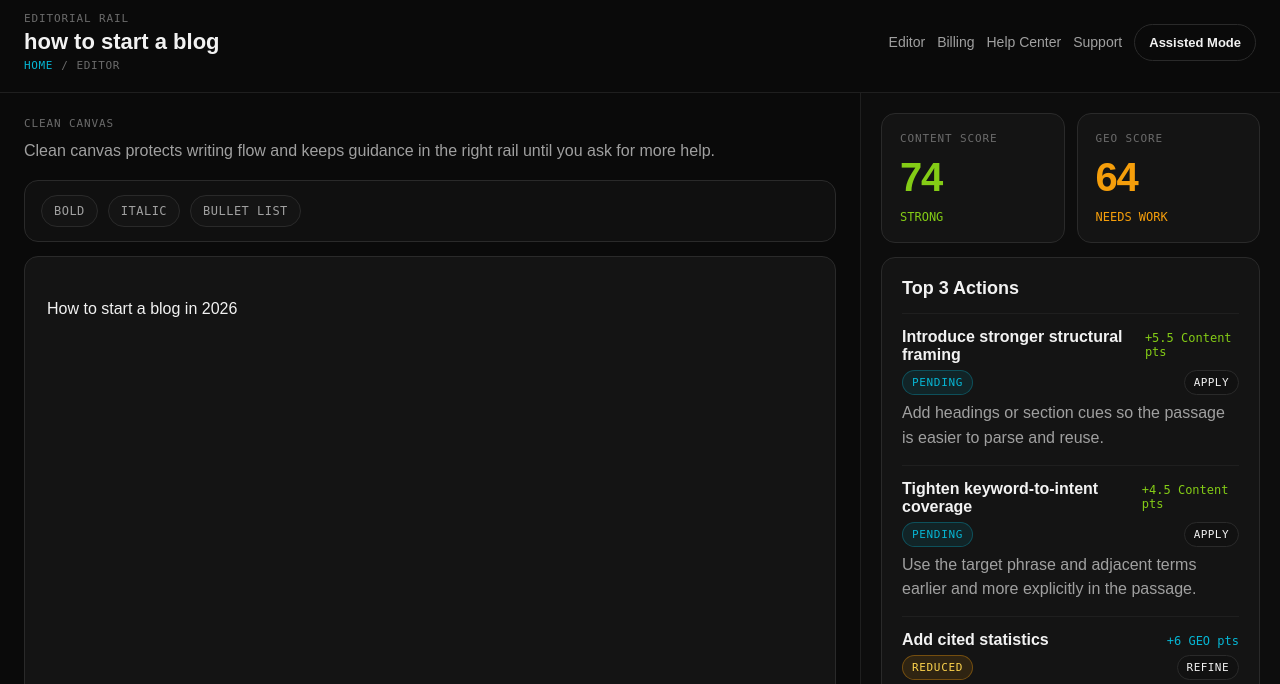
it: EditorRail › applies inline guidance actions into the draft when clicked
What coordinates should you click on to do the following:
click the button "Assisted Mode"
I would click on:
 (1195, 42)
Its box is [1134, 24, 1256, 60].
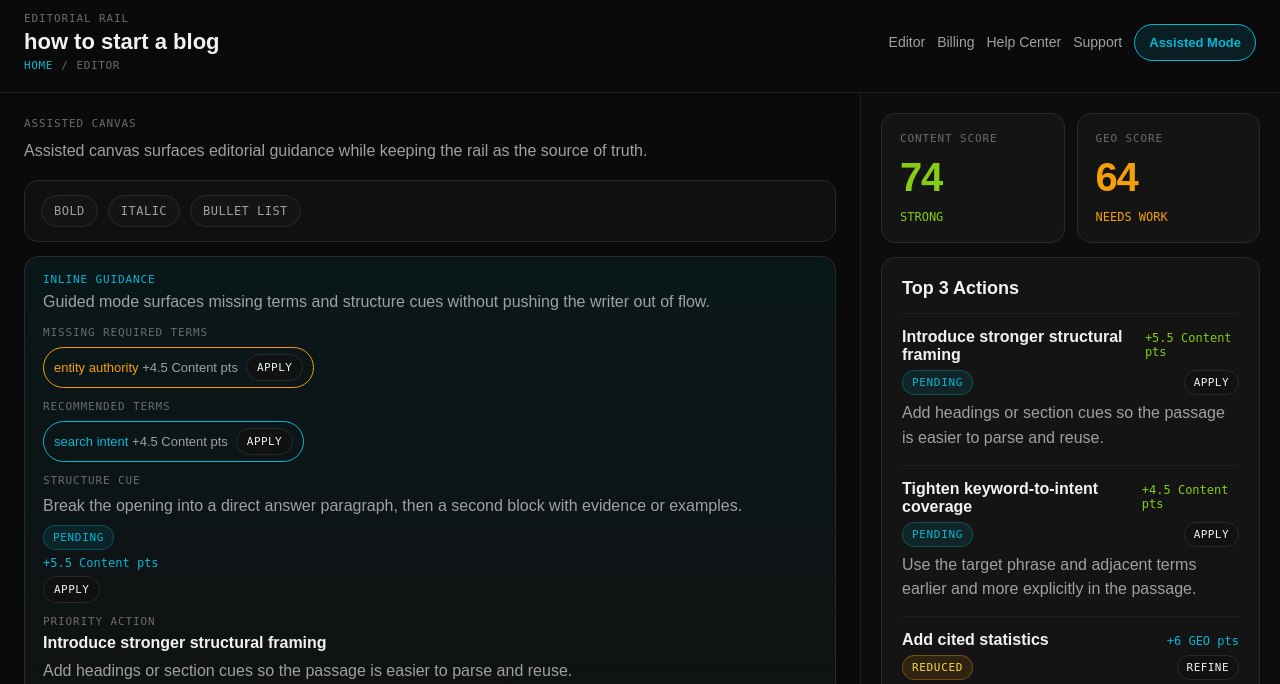
What coordinates should you click on to do the following:
click the button with aria-label "apply term entity authority"
I would click on:
 (275, 368)
Its box is [246, 354, 303, 381].
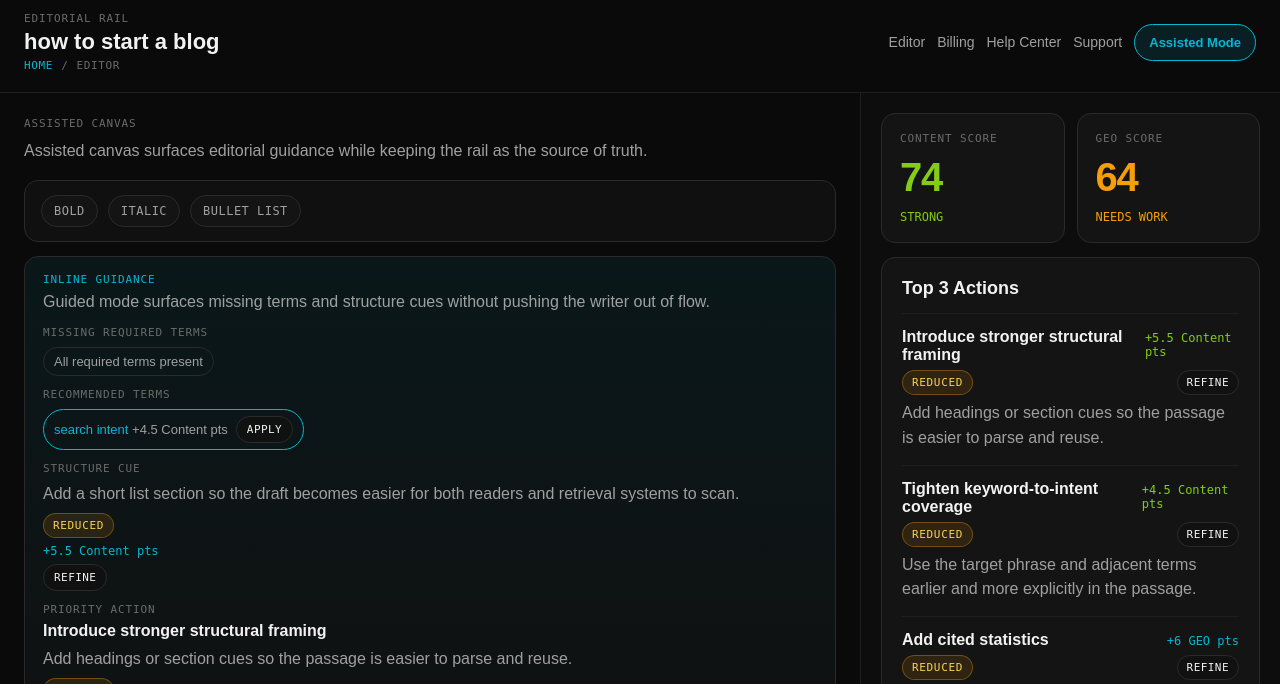
What coordinates should you click on to do the following:
click the button with aria-label "apply structure cue"
I would click on:
 (75, 578)
Its box is [43, 564, 107, 591].
(page scrolled)
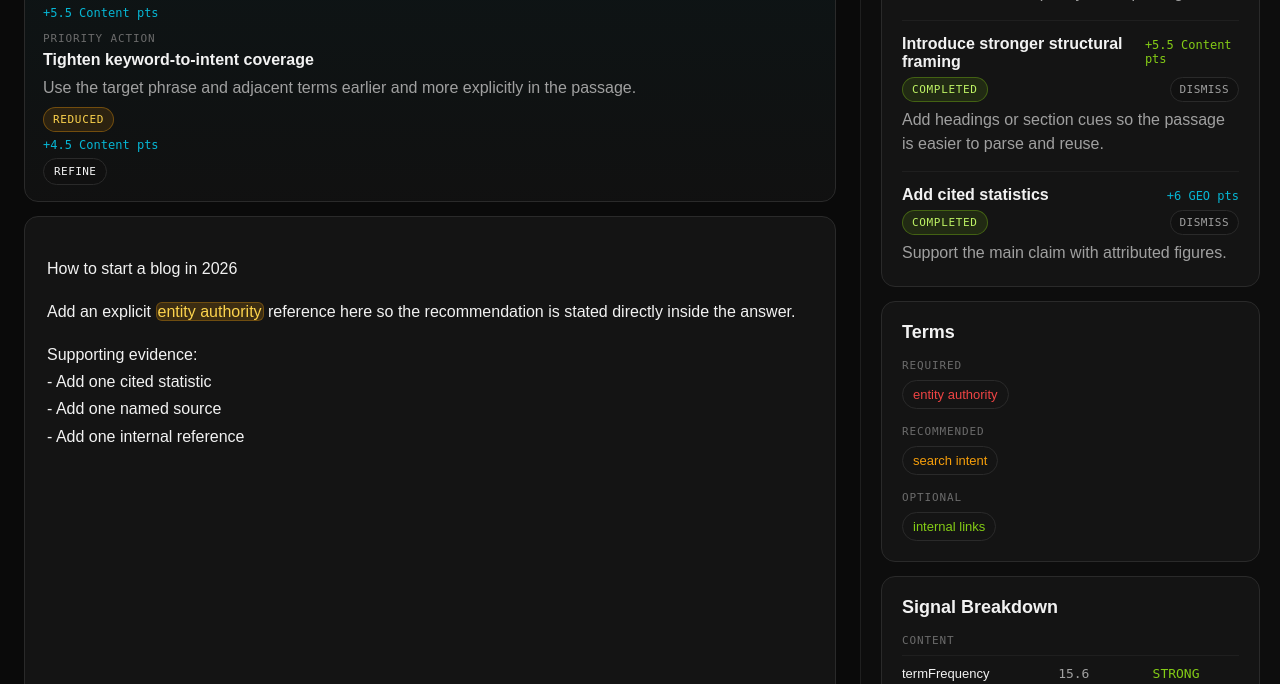
Expected: the field named "editor content" shows "entity authority", [47, 255, 813, 450]
Expected: the field named "editor content" shows "supporting evidence", [47, 255, 813, 450]
